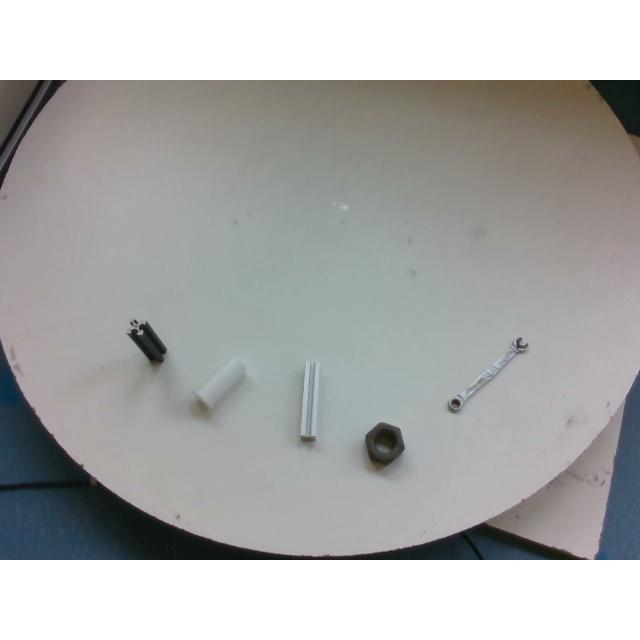F20_20_B: (126, 318, 166, 362)
F20_20_G: (298, 360, 318, 440)
M30: (364, 422, 404, 464)
Spacer: (195, 358, 245, 408)
Wrench: (448, 337, 528, 413)
